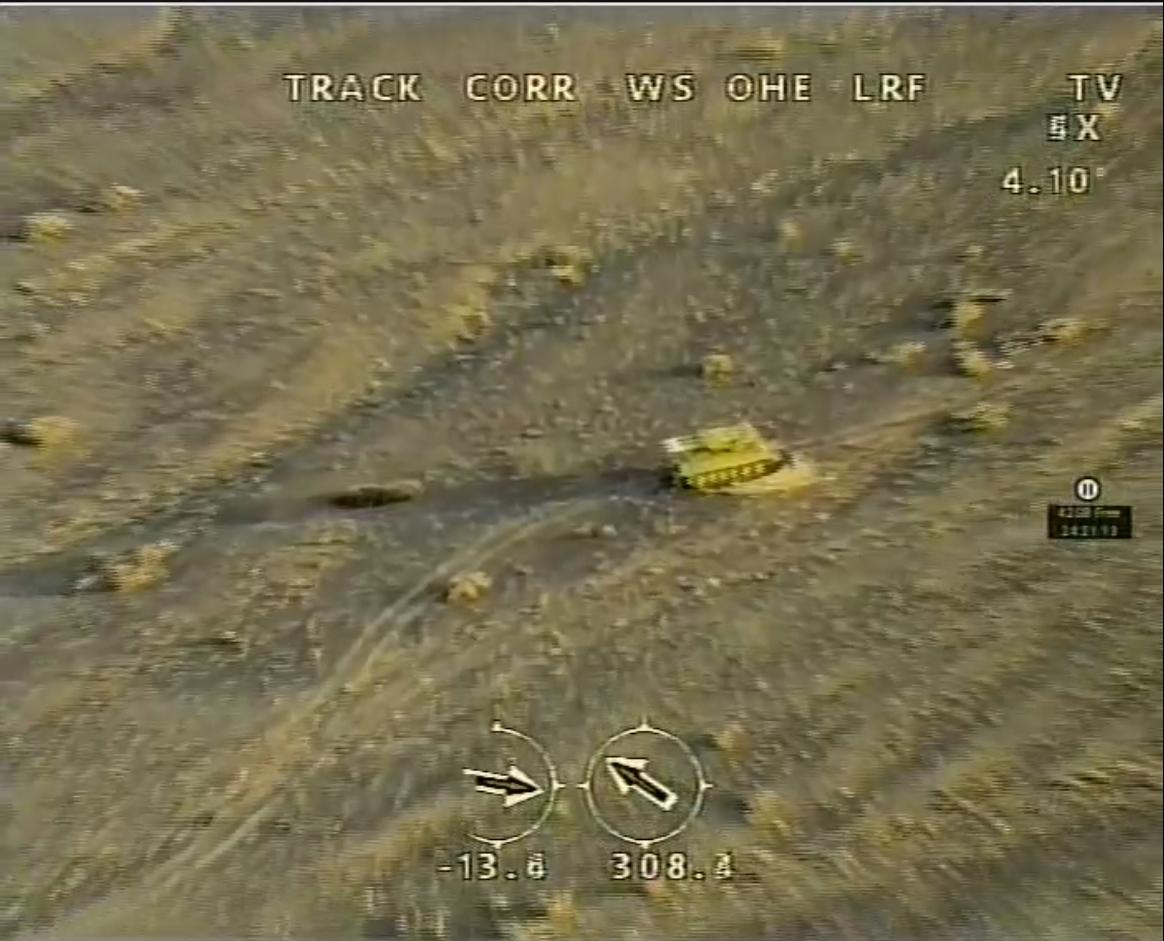armored_car: (652, 420, 783, 496)
